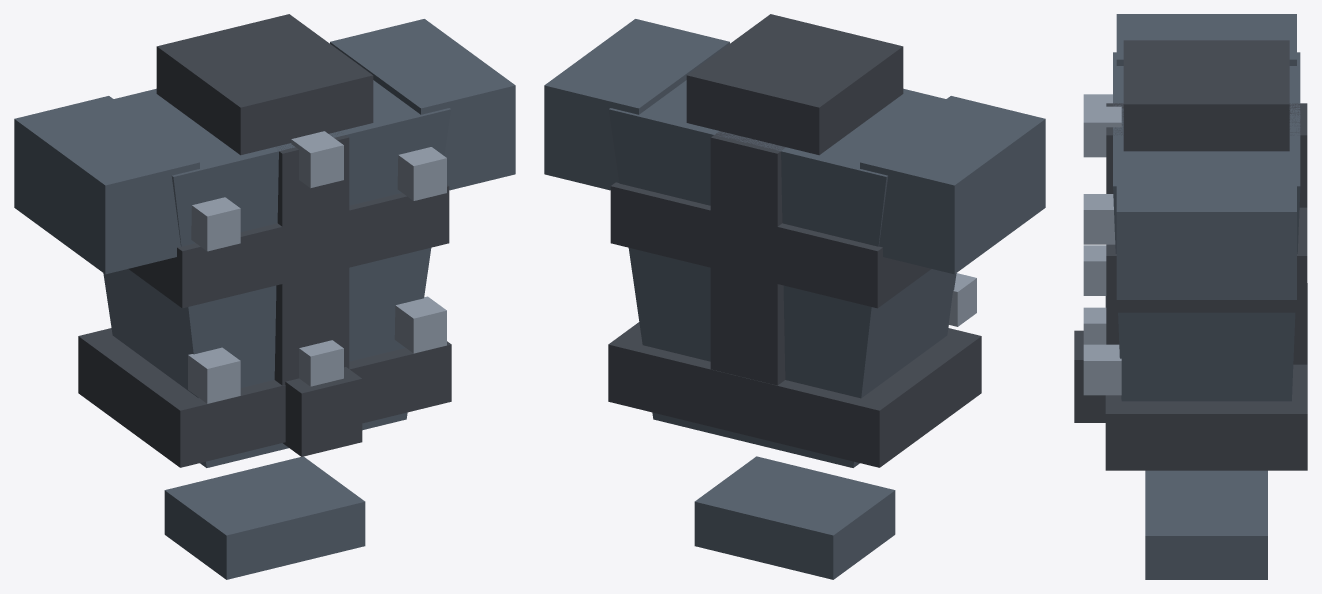
The model's file is CorazaReforzada_low.fbx.
3 renders of one model, left to right at view 1: azimuth 30°, elevation 25°; view 2: azimuth 150°, elevation 25°; view 3: azimuth 270°, elevation 25°, orthographic.
Parts seen in each view (by area): view 1: CorazaReforzada_low; view 2: CorazaReforzada_low; view 3: CorazaReforzada_low.
Part boxes in pixels (bbox=[...]): CorazaReforzada_low: bbox=[14, 14, 515, 579]; CorazaReforzada_low: bbox=[544, 14, 1045, 579]; CorazaReforzada_low: bbox=[1074, 14, 1307, 579].
Size of the model in its own units: 67.6 by 75.5 by 33.66.
